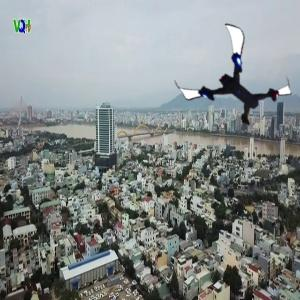drone: (181, 35, 282, 136)
